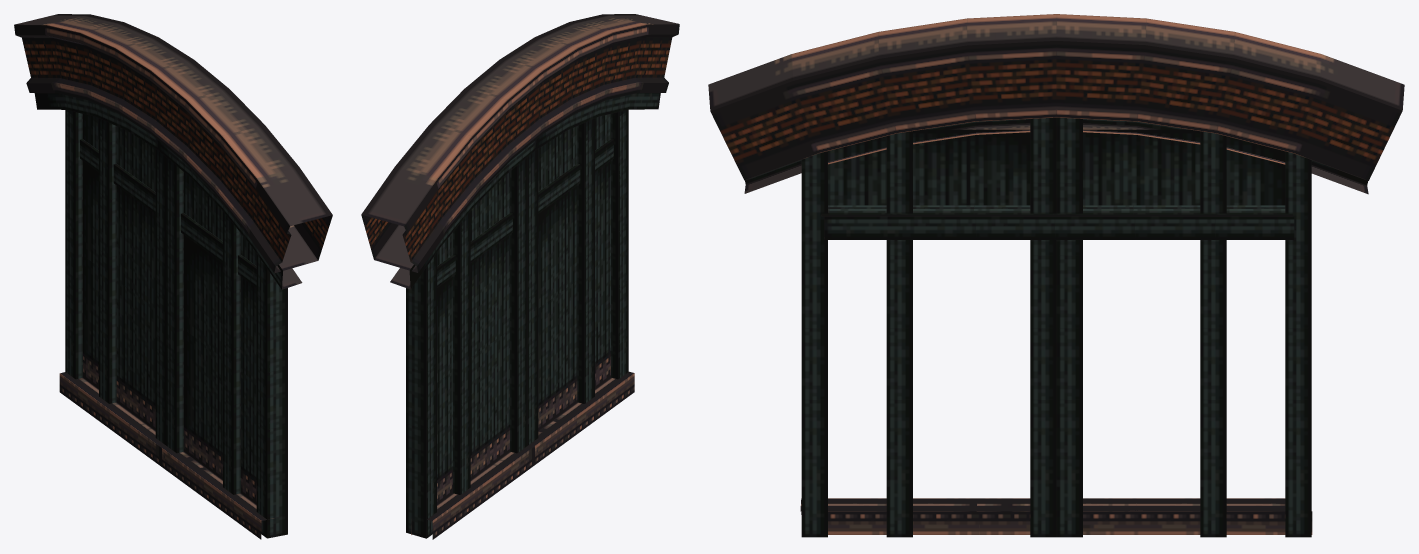
File: EnvBdgMD_Factory_B_Outdoor_Gate_A.FBX
3 renders of one model, left to right at view 1: azimuth 30°, elevation 25°; view 2: azimuth 150°, elevation 25°; view 3: azimuth 270°, elevation 25°, orthographic. The views are drawn at different scales.
Parts seen in each view (by area): view 1: EnvBdgMD_Factory_B_Outdoor_Gate_A; view 2: EnvBdgMD_Factory_B_Outdoor_Gate_A; view 3: EnvBdgMD_Factory_B_Outdoor_Gate_A.
Boxes of the visible parts, bbox=[...] form: EnvBdgMD_Factory_B_Outdoor_Gate_A: bbox=[14, 14, 332, 539]; EnvBdgMD_Factory_B_Outdoor_Gate_A: bbox=[361, 14, 679, 539]; EnvBdgMD_Factory_B_Outdoor_Gate_A: bbox=[708, 14, 1404, 537].
Size of the model in its own units: 79.75 by 654 by 819.
